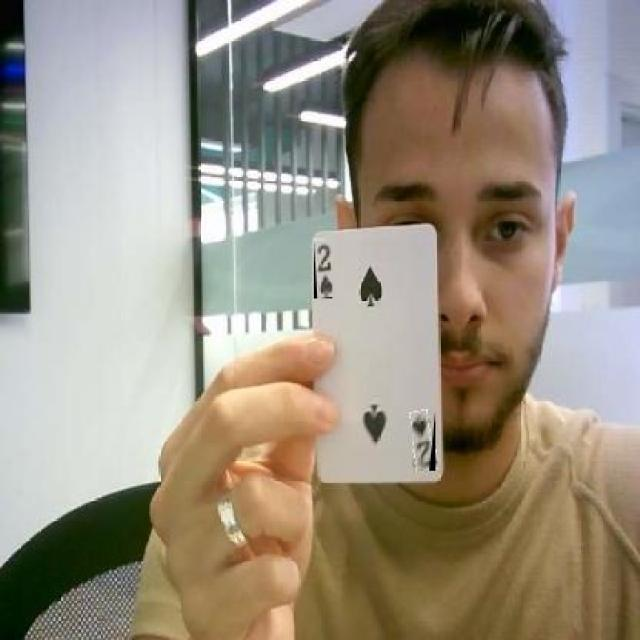2S: (412, 411, 436, 471), (314, 238, 332, 298)
